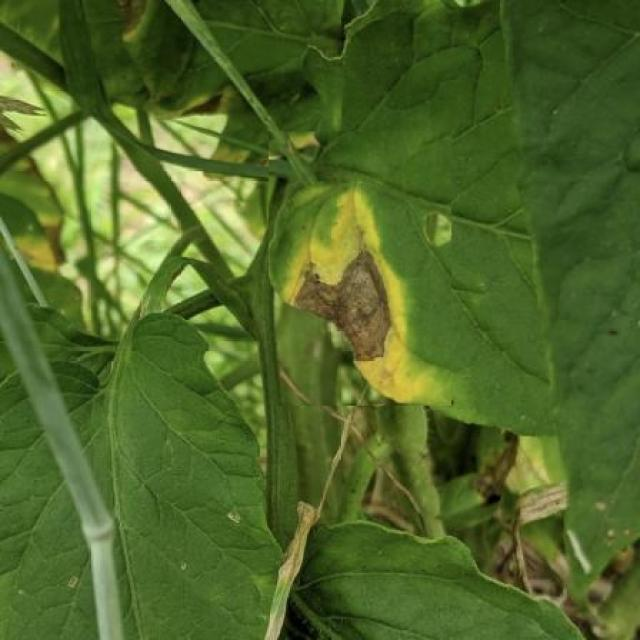Early Blight: (268, 131, 452, 406)
